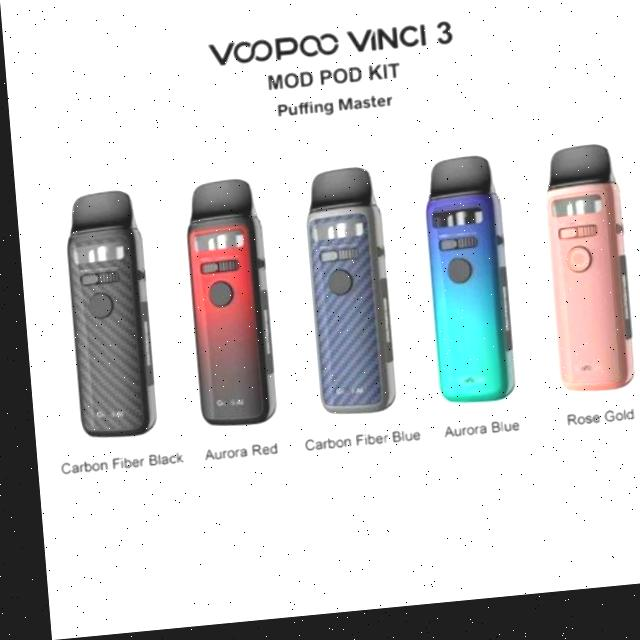vape: (57, 189, 153, 442), (178, 180, 274, 433), (298, 171, 391, 424), (417, 162, 510, 413), (537, 154, 630, 405)
